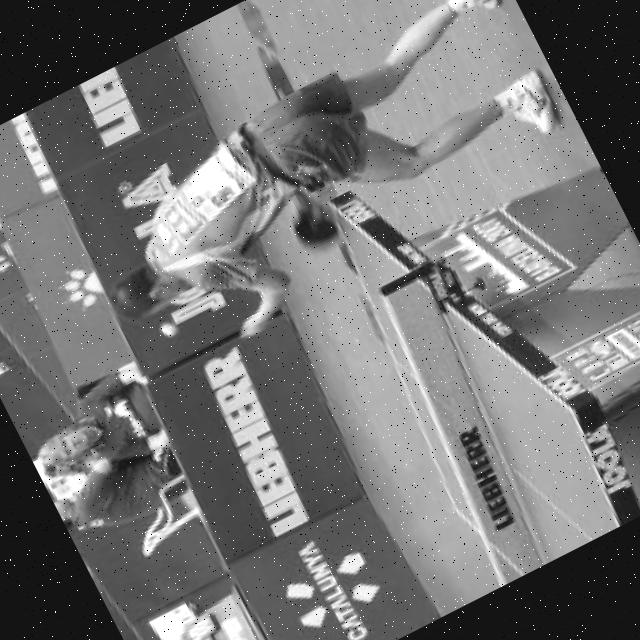ping-pong-ball: (156, 313, 184, 342)
